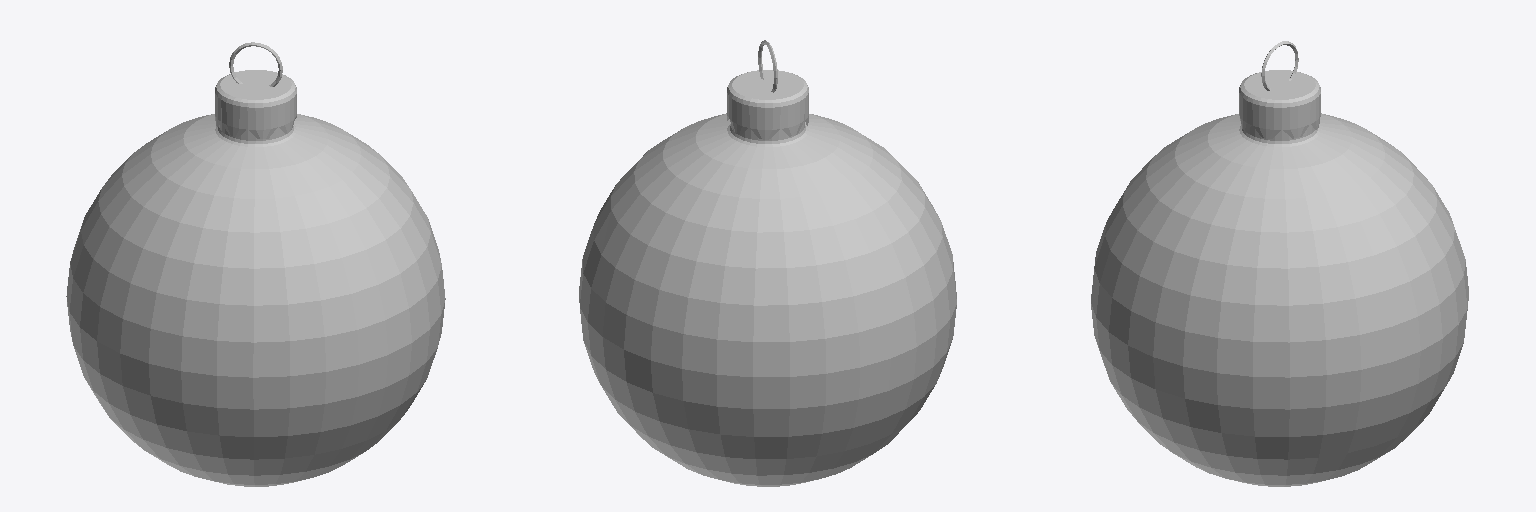
The model's file is ball.obj.
3 renders of one model, left to right at view 1: azimuth 30°, elevation 25°; view 2: azimuth 150°, elevation 25°; view 3: azimuth 270°, elevation 25°, orthographic.
Parts seen in each view (by area): view 1: ChristmasBall; view 2: ChristmasBall; view 3: ChristmasBall.
Part boxes in pixels (bbox=[...]): ChristmasBall: bbox=[66, 42, 445, 486]; ChristmasBall: bbox=[579, 40, 956, 486]; ChristmasBall: bbox=[1091, 41, 1468, 486].
Bounding box in the file's own units: 0.1014 × 0.1262 × 0.1014.